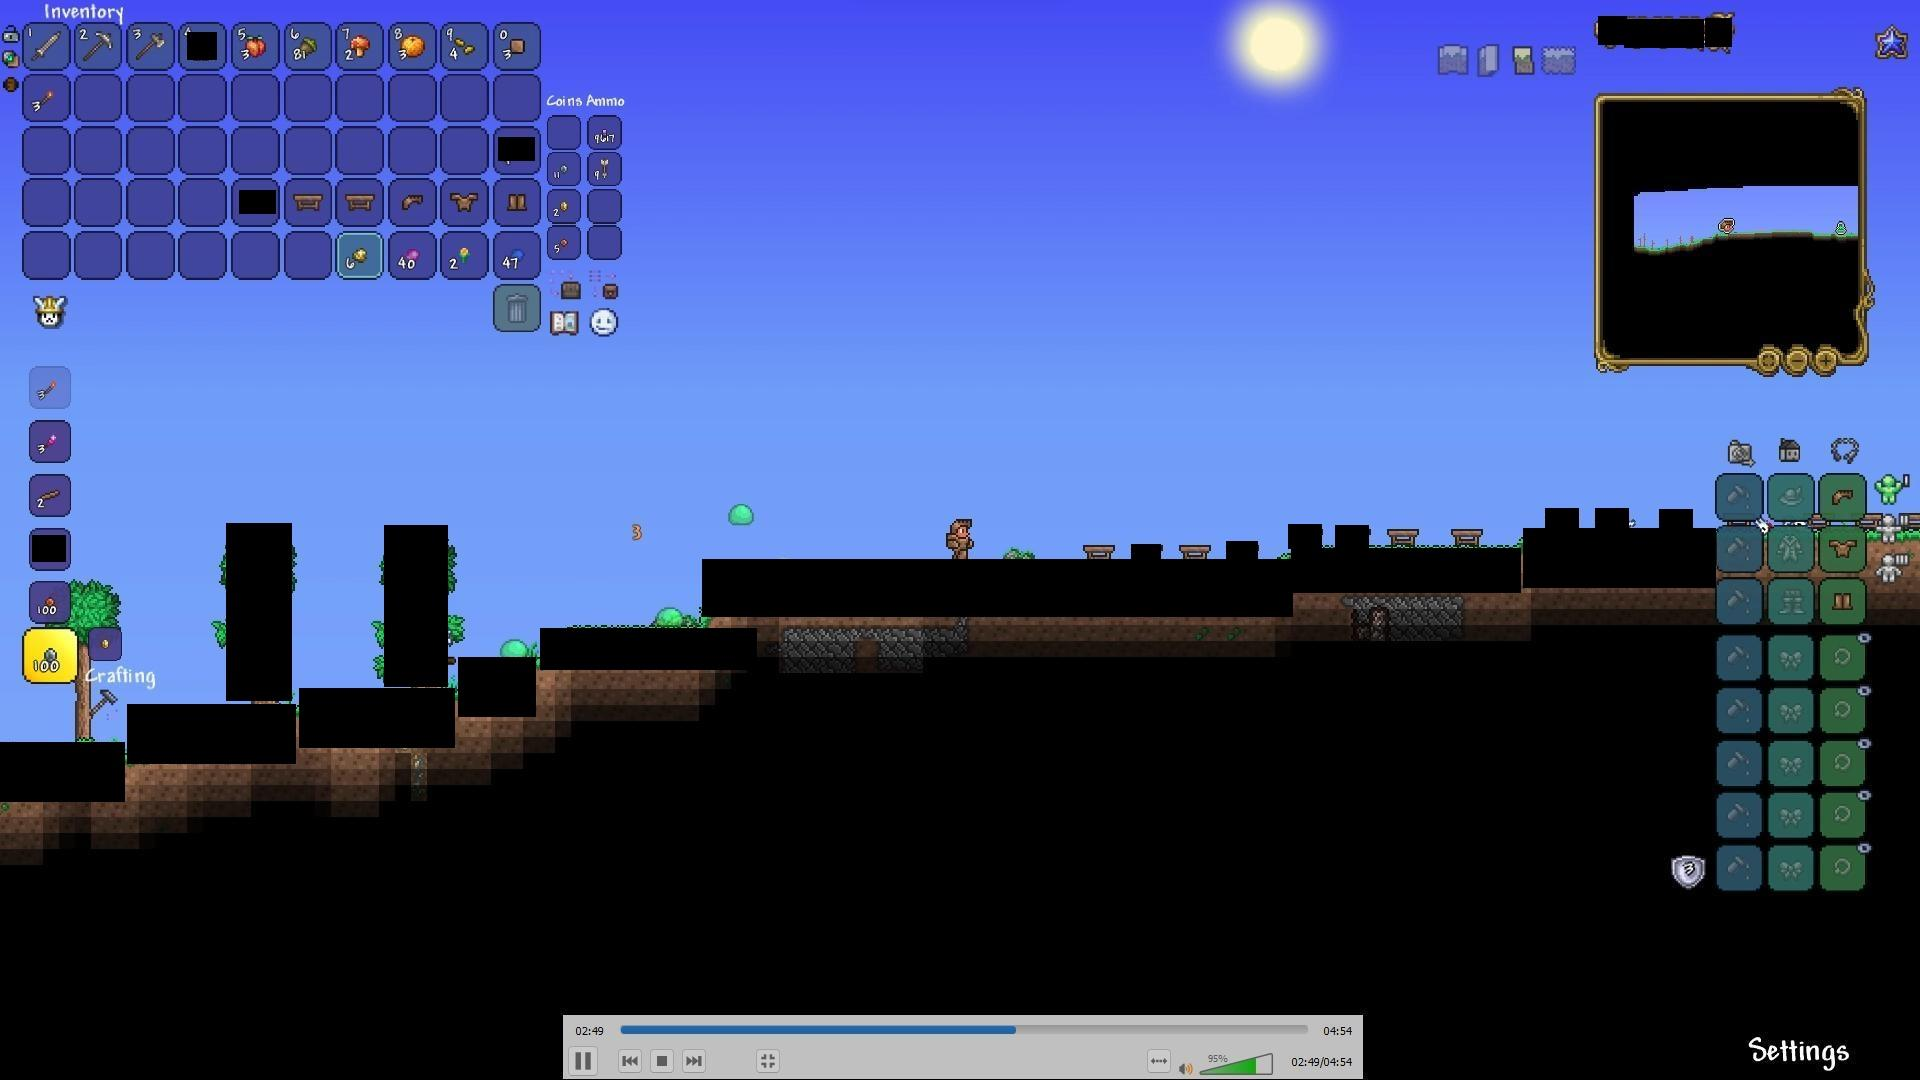breastplate: (1832, 538, 1859, 559), (450, 189, 479, 208)
helmet: (1829, 483, 1857, 509), (400, 193, 427, 219)
legs: (506, 186, 531, 214), (1832, 588, 1855, 615)
slime: (655, 601, 683, 628), (728, 501, 757, 526), (500, 636, 527, 661)
tree: (74, 580, 117, 741)
workbench: (340, 190, 377, 214), (291, 191, 327, 214), (1386, 522, 1419, 546), (1452, 522, 1485, 546), (1084, 545, 1116, 567), (1182, 545, 1211, 564)
